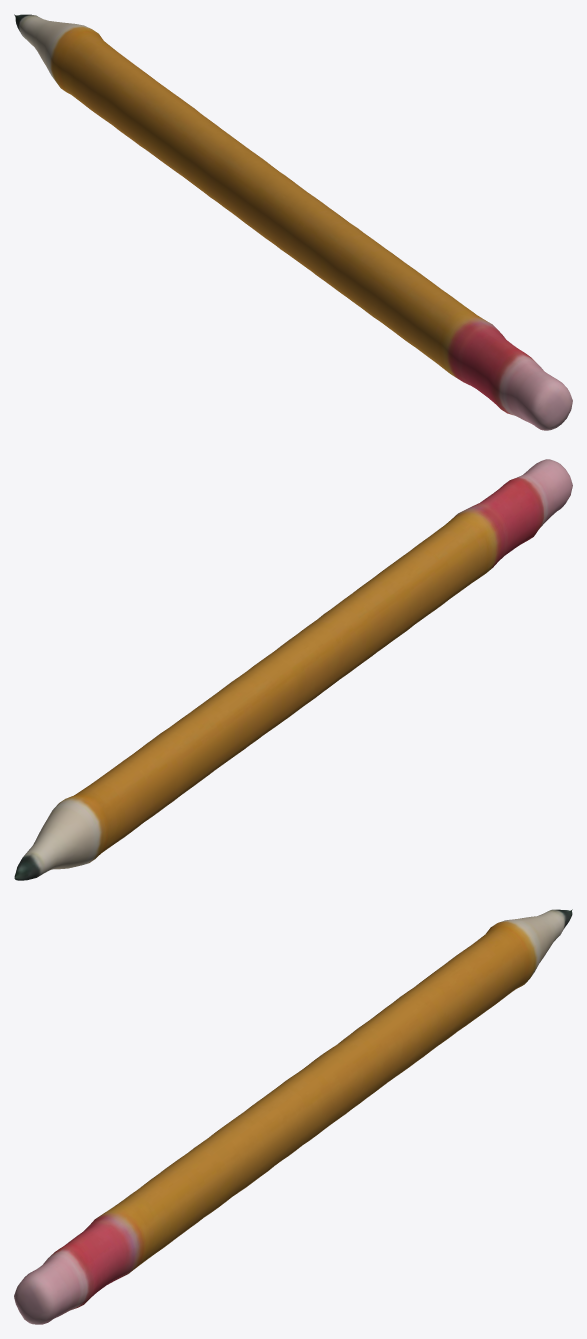
The model's file is pencil.fbx.
3 views of the same model, one above another, from view 1: azimuth 30°, elevation 25°; view 2: azimuth 150°, elevation 25°; view 3: azimuth 330°, elevation 25° (orthographic).
Visible parts, largest first — view 1: mesh; view 2: mesh; view 3: mesh.
Boxes of the visible parts, x1,y1,x2,y2 form: mesh: (14, 14, 572, 430); mesh: (14, 459, 572, 880); mesh: (14, 909, 572, 1324).
Size of the model in its own units: 5.46 by 6.65 by 99.75.
